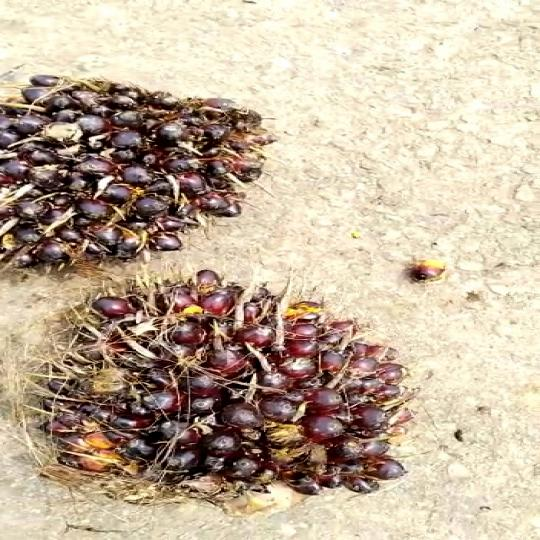kurang masak: (19, 276, 443, 502), (0, 74, 295, 270)
